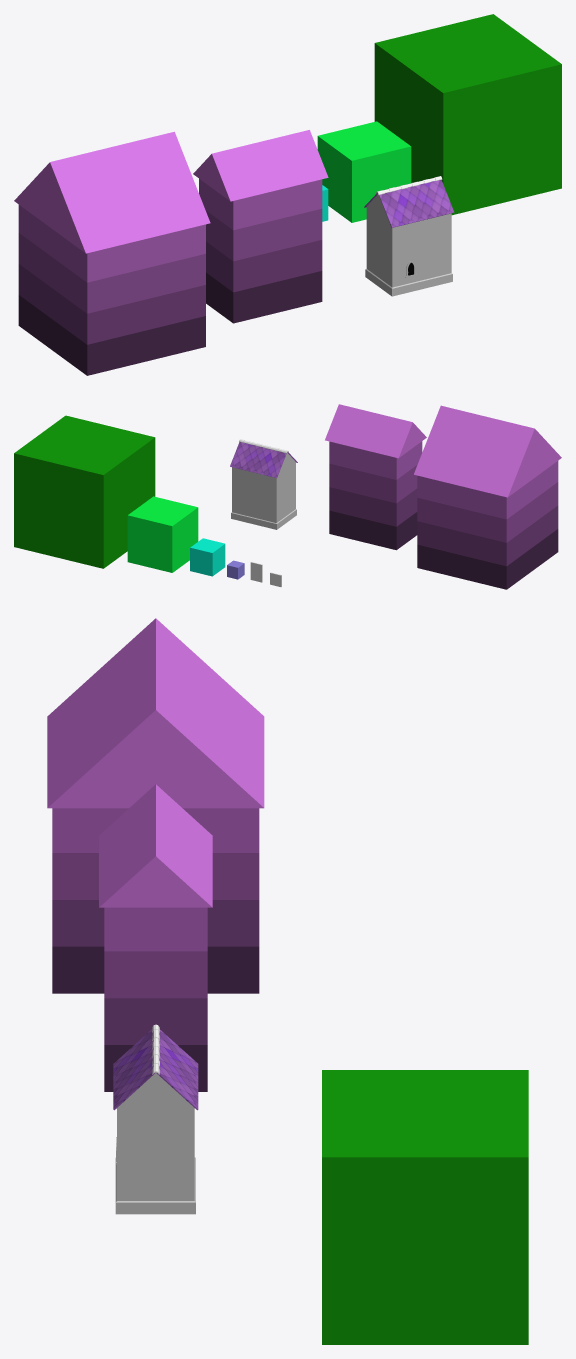
Rendered from small_house_005.fbx.
The picture shows the model from 3 angles, top to bottom: view 1: azimuth 30°, elevation 25°; view 2: azimuth 150°, elevation 25°; view 3: azimuth 270°, elevation 25°; orthographic projection. The views are drawn at different scales.
Parts seen in each view (by area): view 1: 8x8m_Part, 0_Roof, 4x4m_Part, 2_Middle_Top, 3_Middle_Bottom, 4_Bottom, 0_Roof.001, 1_Top, 3_Middle_Bottom.001, 4_Bottom.001, 2_Middle_Top.001, 1_Top.001 (+4 smaller); view 2: 8x8m_Part, 0_Roof, 4x4m_Part, 2_Middle_Top, 3_Middle_Bottom, 4_Bottom, 0_Roof.001, 1_Top, 3_Middle_Bottom.001, 4_Bottom.001, 2_Middle_Top.001, 1_Top.001 (+6 smaller); view 3: 8x8m_Part, 0_Roof, 0_Roof.001, 1_Top, 4_Bottom, 2_Middle_Top.001, 3_Middle_Bottom, 1_Top.001, 3_Middle_Bottom.001, 2_Middle_Top, Roof_Scaled_Up, Stone_Wall (+4 smaller).
Boxes of the visible parts, x1=… form: 8x8m_Part: x1=374, y1=14, x2=561, y2=215; 0_Roof: x1=14, y1=131, x2=210, y2=253; 4x4m_Part: x1=317, y1=121, x2=411, y2=222; 2_Middle_Top: x1=18, y1=233, x2=205, y2=313; 3_Middle_Bottom: x1=18, y1=264, x2=205, y2=344; 4_Bottom: x1=18, y1=295, x2=205, y2=375; 0_Roof.001: x1=193, y1=130, x2=328, y2=201; 1_Top: x1=18, y1=205, x2=205, y2=282; 3_Middle_Bottom.001: x1=206, y1=240, x2=322, y2=292; 4_Bottom.001: x1=206, y1=271, x2=322, y2=323; 2_Middle_Top.001: x1=205, y1=209, x2=322, y2=261; 1_Top.001: x1=199, y1=179, x2=322, y2=230; 8x8m_Part: x1=14, y1=415, x2=155, y2=568; 0_Roof: x1=414, y1=405, x2=561, y2=497; 4x4m_Part: x1=127, y1=496, x2=198, y2=572; 2_Middle_Top: x1=417, y1=482, x2=558, y2=542; 3_Middle_Bottom: x1=417, y1=505, x2=558, y2=566; 4_Bottom: x1=417, y1=529, x2=558, y2=589; 0_Roof.001: x1=325, y1=404, x2=426, y2=458; 1_Top: x1=417, y1=461, x2=558, y2=519; 3_Middle_Bottom.001: x1=329, y1=487, x2=417, y2=526; 4_Bottom.001: x1=329, y1=510, x2=417, y2=550; 2_Middle_Top.001: x1=329, y1=463, x2=417, y2=503; 1_Top.001: x1=329, y1=441, x2=422, y2=479; 8x8m_Part: x1=322, y1=1070, x2=528, y2=1344; 0_Roof: x1=47, y1=618, x2=264, y2=808; 0_Roof.001: x1=99, y1=784, x2=212, y2=907; 1_Top: x1=52, y1=808, x2=259, y2=852; 4_Bottom: x1=52, y1=946, x2=259, y2=993; 2_Middle_Top.001: x1=104, y1=951, x2=207, y2=998; 3_Middle_Bottom: x1=52, y1=900, x2=259, y2=946; 1_Top.001: x1=104, y1=907, x2=207, y2=951; 3_Middle_Bottom.001: x1=104, y1=998, x2=207, y2=1044; 2_Middle_Top: x1=52, y1=853, x2=259, y2=899; Roof_Scaled_Up: x1=113, y1=1029, x2=198, y2=1110; Stone_Wall: x1=117, y1=1154, x2=194, y2=1200.
Size of the model in its own units: 3820 by 1320 by 1862.
